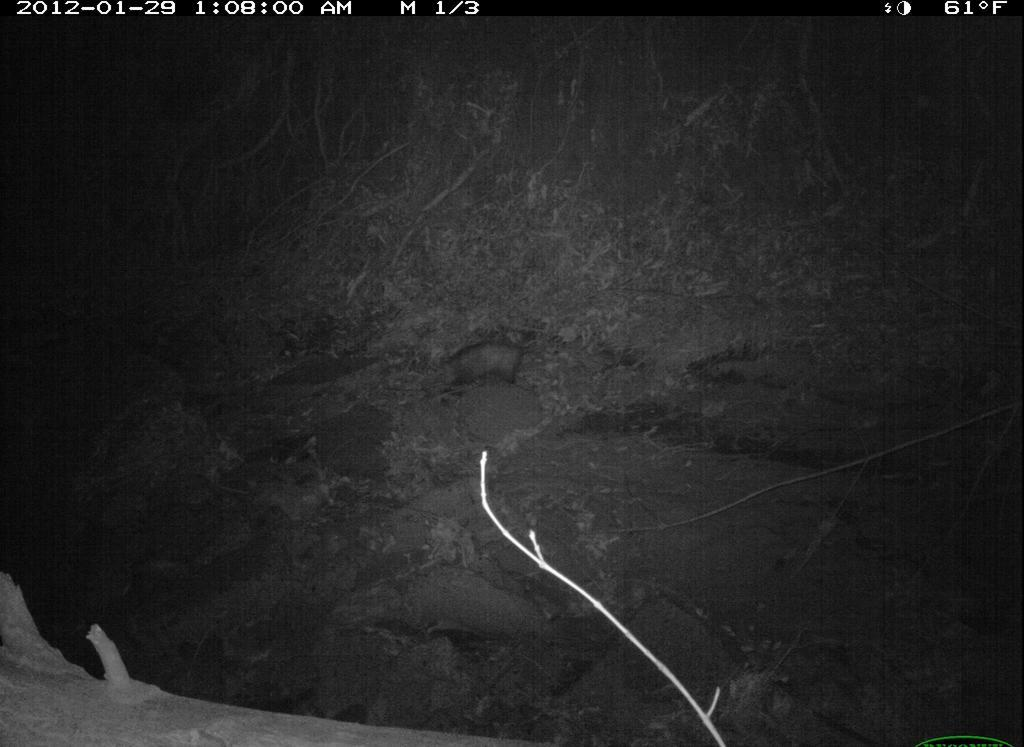opossum: (422, 332, 557, 397)
